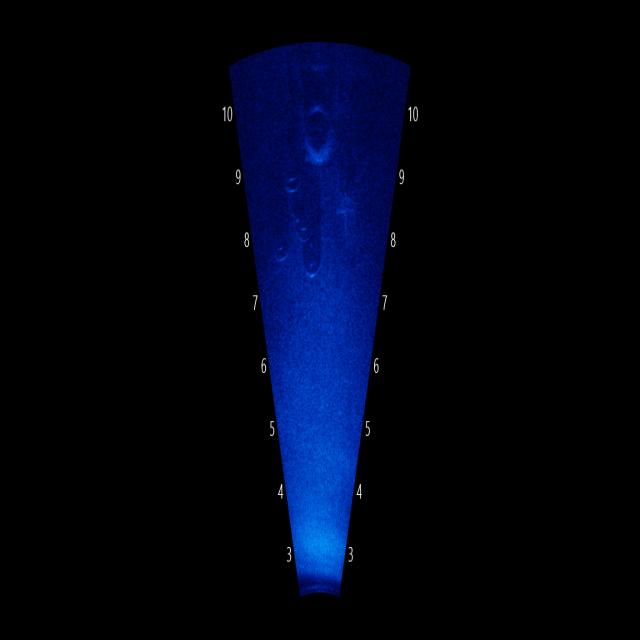circle: (295, 83, 345, 173)
